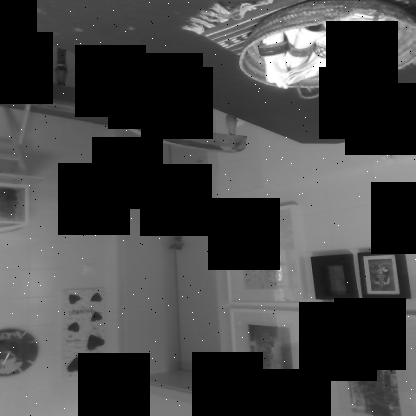Porte: (110, 97, 240, 415)
